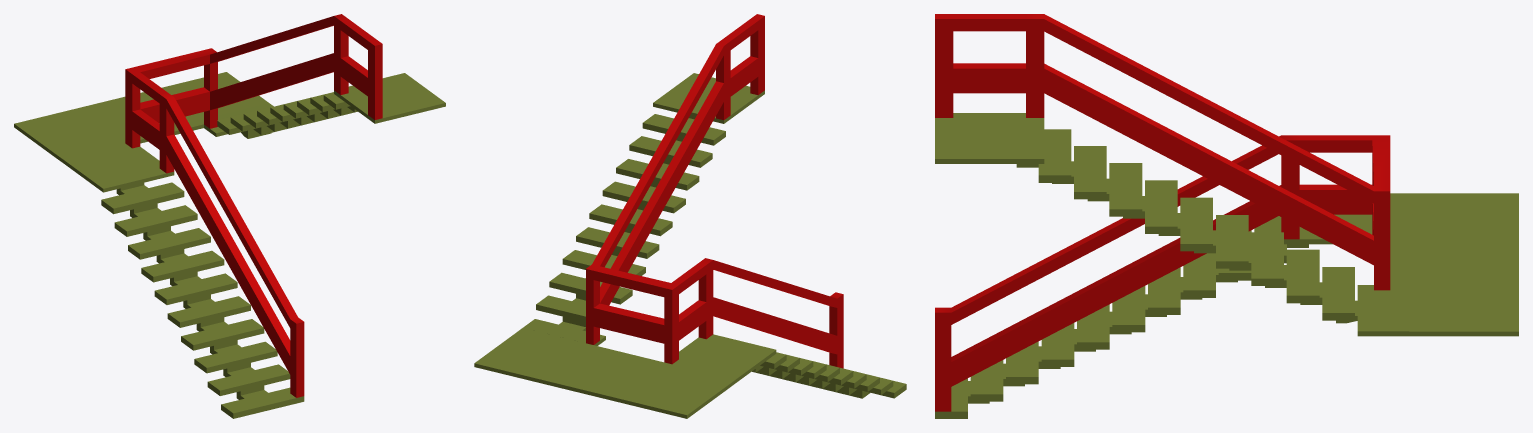
The model's file is DStair.fbx.
3 views of the same model, side by side, from view 1: azimuth 30°, elevation 25°; view 2: azimuth 150°, elevation 25°; view 3: azimuth 270°, elevation 25° (orthographic). The views are drawn at different scales.
Parts seen in each view (by area): view 1: DStair; view 2: DStair; view 3: DStair.
Boxes of the visible parts, box(x1,y1,x2,y2) form: DStair: box(14, 14, 445, 418); DStair: box(474, 14, 906, 418); DStair: box(935, 14, 1518, 418).
Size of the model in its own units: 599 by 912 by 1070.
